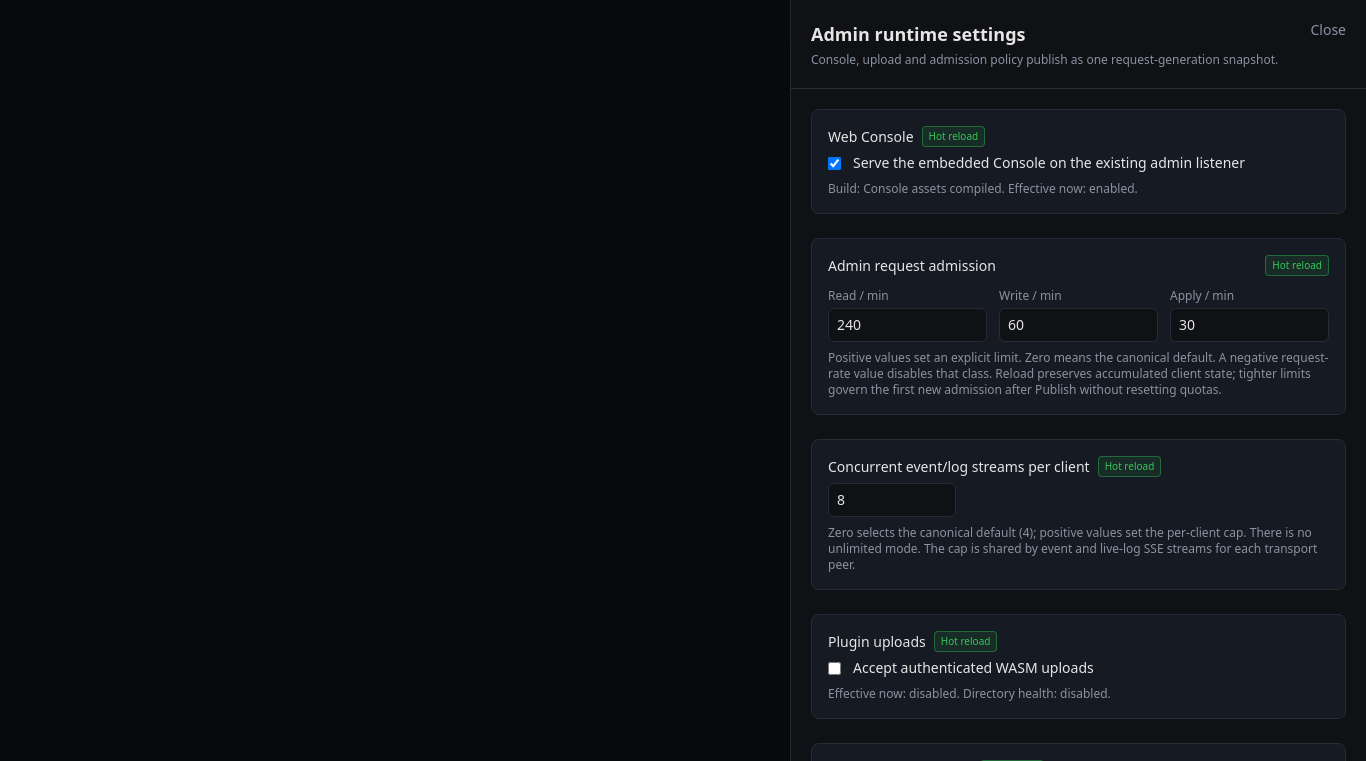
Test case: AdminRuntimeSettingsDrawer HR-07A limits › treats zero as canonical cap 4 when deciding whether to warn on tightening
Expected: the text "Admin request admission" is shown, [828,256,996,276]
Replace the text in the 4th number field with "0" at (892, 500), box [828,483,956,517]
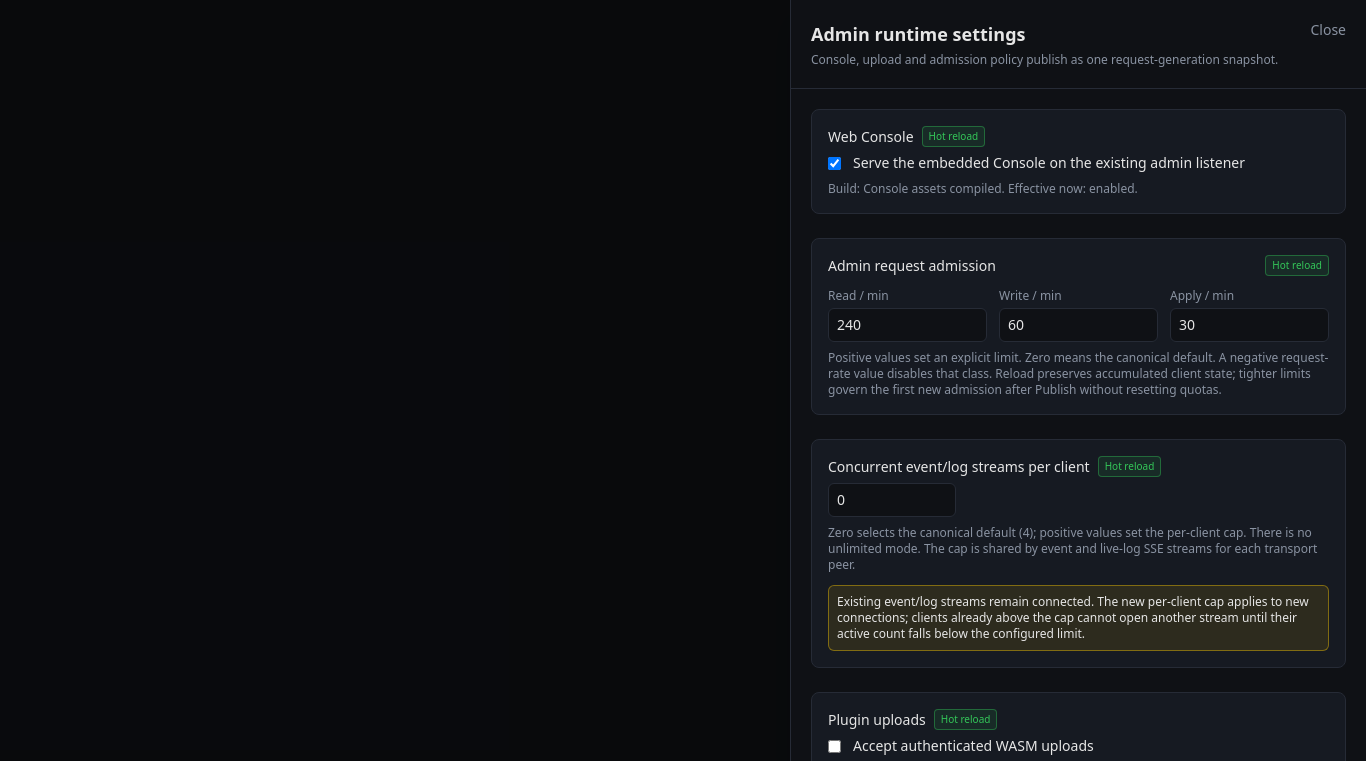
Expected: the text "Existing event/log streams remain connected" is shown, [837,593,1309,642]
